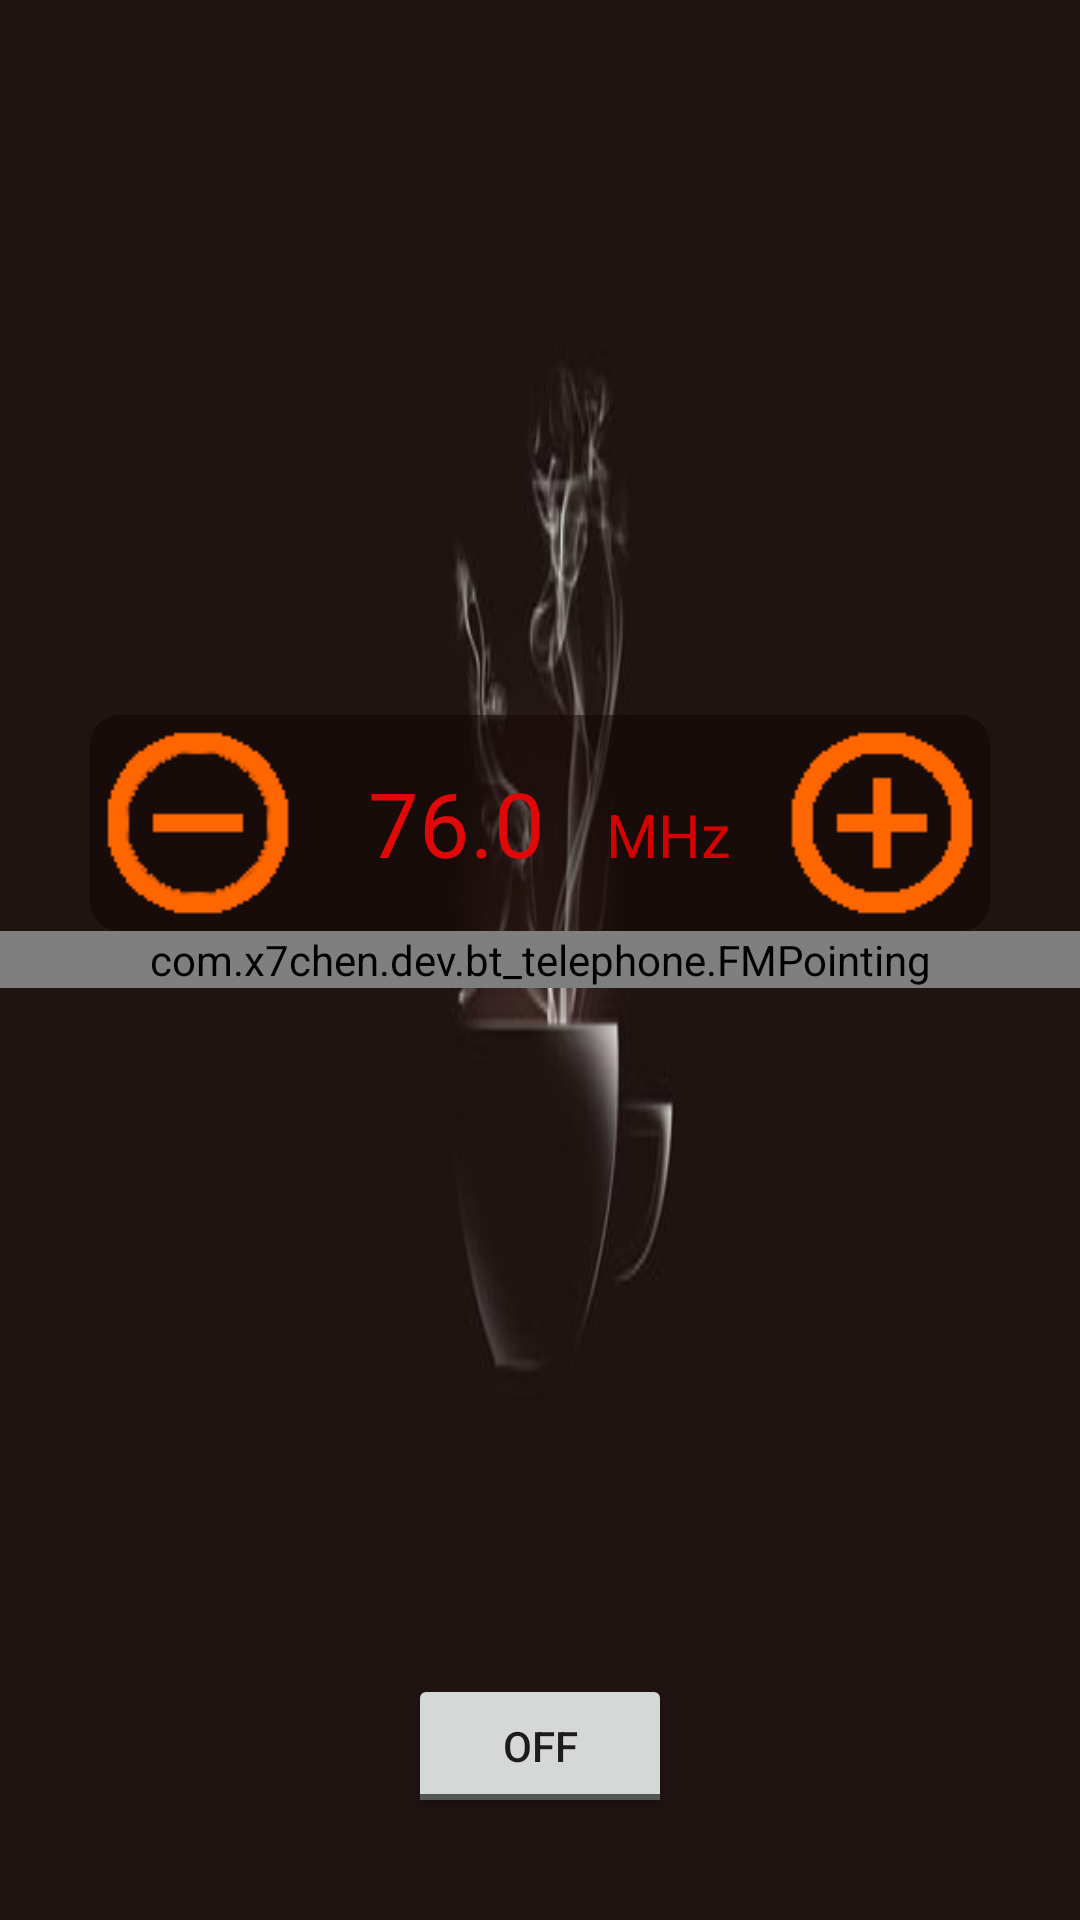

Point at icon controls on the screen. Image size 1080*1920, points as (x=x, y=y).
add: (x=882, y=823)
dec: (x=198, y=823)
